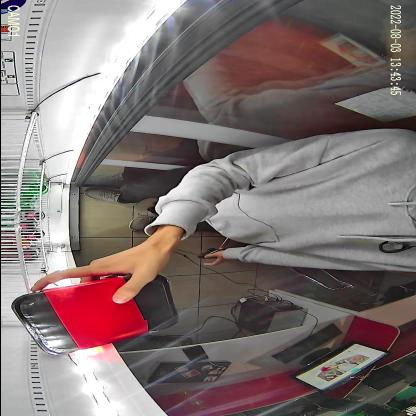red: (11, 272, 179, 356)
